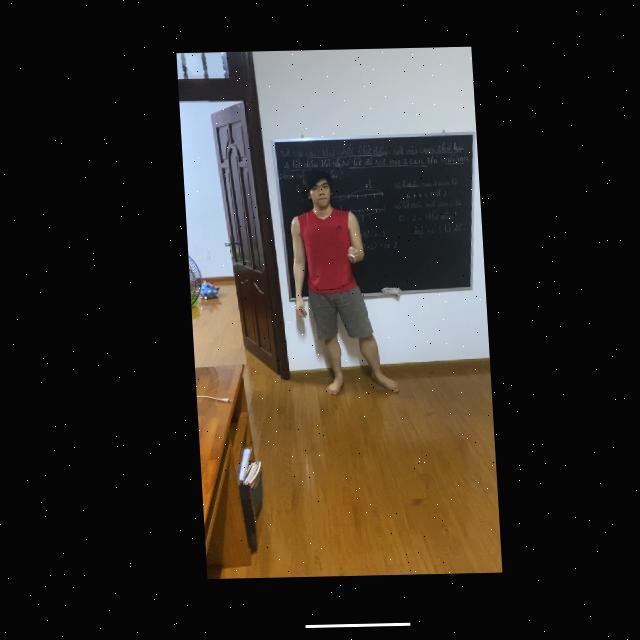cigarette: (345, 255, 351, 260)
